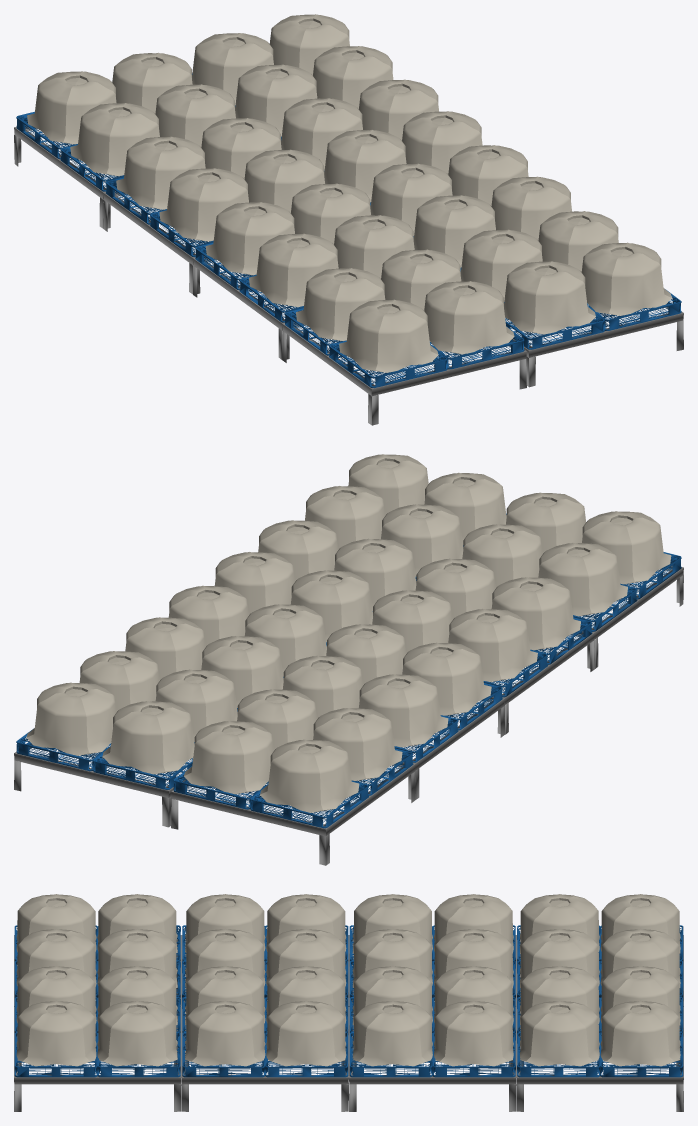
3 renders of one model, top to bottom at view 1: azimuth 30°, elevation 25°; view 2: azimuth 150°, elevation 25°; view 3: azimuth 270°, elevation 25°, orthographic. The views are drawn at different scales.
Visible parts, largest first — view 1: material; view 2: material; view 3: material.
Boxes of the visible parts, x1,y1,x2,y2 form: material: [14, 14, 683, 425]; material: [14, 454, 683, 865]; material: [14, 894, 683, 1111].
Bounding box in the file's own units: 4.46 × 1.25 × 8.85.
